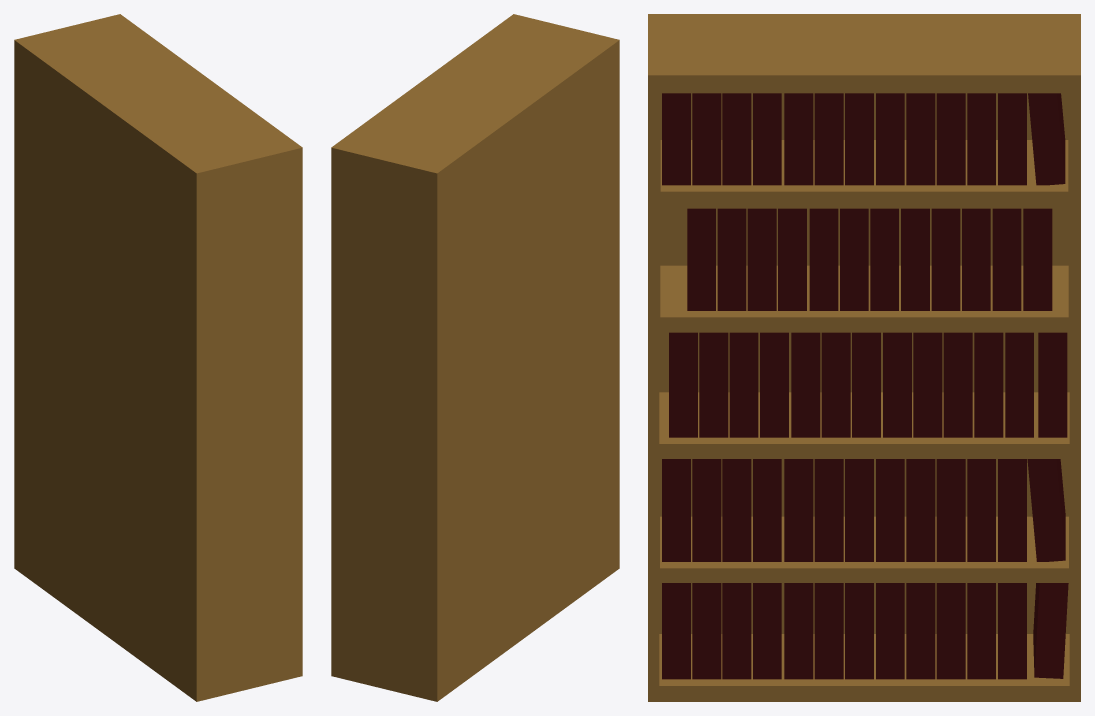
The model's file is bookshelf_full.glb.
3 views of the same model, side by side, from view 1: azimuth 30°, elevation 25°; view 2: azimuth 150°, elevation 25°; view 3: azimuth 270°, elevation 25° (orthographic). The views are drawn at different scales.
Parts seen in each view (by area): view 1: bookshelf; view 2: bookshelf; view 3: bookshelf, book.026, book.023, book.022, book.019, book.018, book.016, book.015, book.012, book.021, book.051, book.036 (+53 smaller).
Boxes of the visible parts, <box> form: bookshelf: <box>14,14,302,701</box>; bookshelf: <box>331,14,619,701</box>; bookshelf: <box>648,14,1080,701</box>; book.026: <box>1027,459,1065,561</box>; book.023: <box>913,332,942,437</box>; book.022: <box>943,332,972,437</box>; book.019: <box>791,332,820,437</box>; book.018: <box>821,332,850,437</box>; book.016: <box>699,332,728,437</box>; book.015: <box>974,332,1003,437</box>; book.012: <box>1038,332,1067,437</box>; book.021: <box>729,332,758,437</box>; book.051: <box>1033,583,1068,678</box>; book.036: <box>906,459,935,561</box>.
Size of the model in its own units: 1.84 by 8.75 by 5.48.
